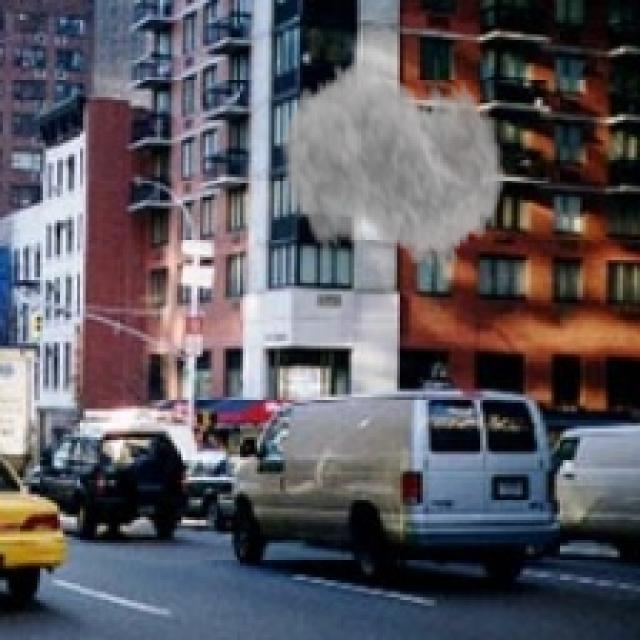Smoke: (280, 39, 506, 294)
